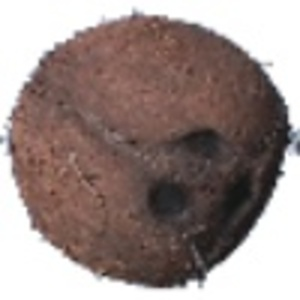coco: (1, 9, 300, 289)
